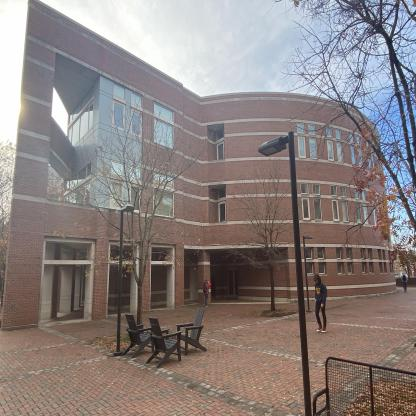EB-1: (10, 30, 401, 328)
